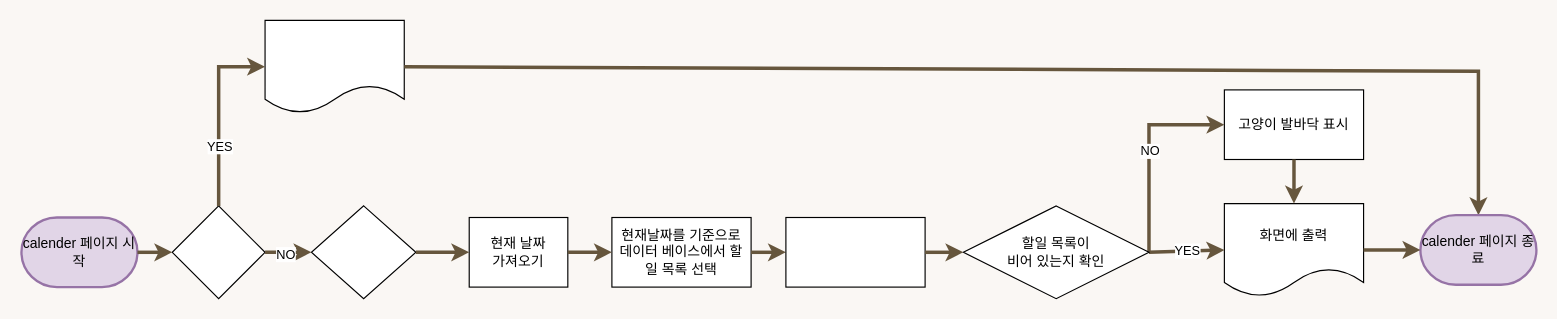
Image size: 1557x319. Some labels were removed from this diagram. The shapes that lost their labels are listed below. From the top down, each one's centre as x and y in pixels, then its label:
At (334,66): "예외 메세지 출력".
At (218,252): "DB 접속 예외 발생".
At (363,252): "요청메소드 GET".
At (855,251): "이름과 프로필 이미지 가져오기".
